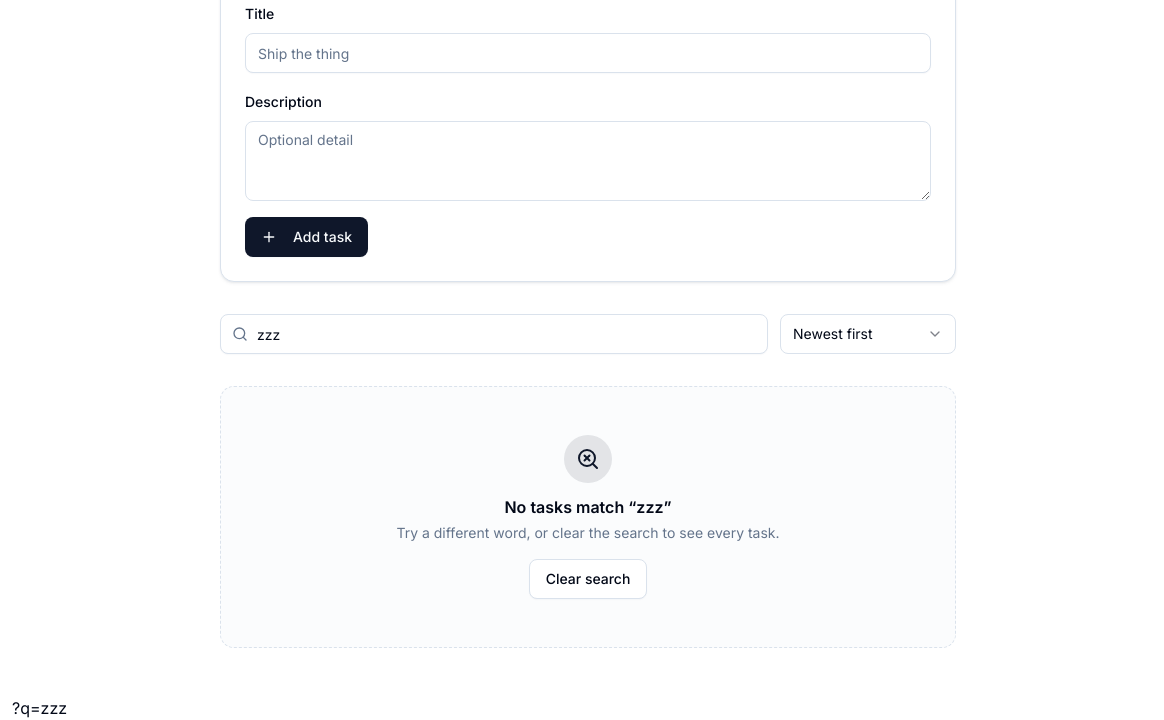
Test: TasksPage — search, sort, optimistic status › a search with no hits says so and offers to clear it (not "No tasks yet")
The width and height of the screenshot is (1164, 720).
(page scrolled)
Expected: the text "No tasks match “zzz”" is shown, [504,495,672,519]
Click the button "Clear search".
click(588, 579)  # box [529,559,647,599]
(page scrolled)
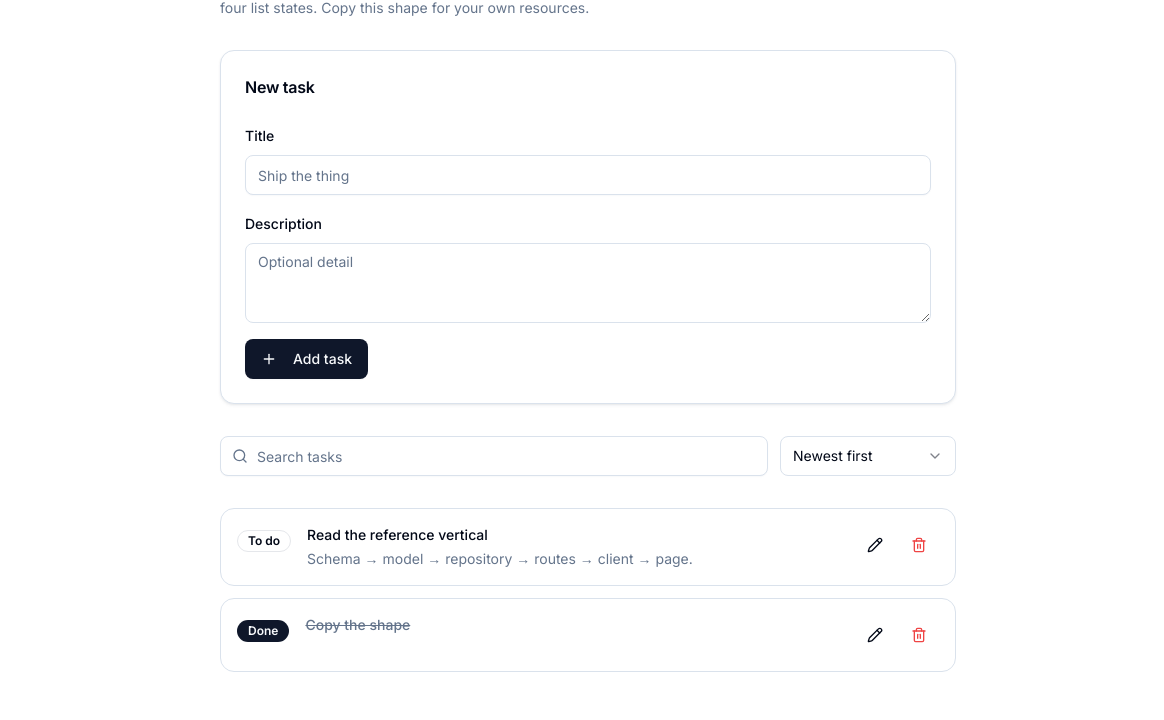
Now the text "Copy the shape" is shown, box [305,616,410,633]
